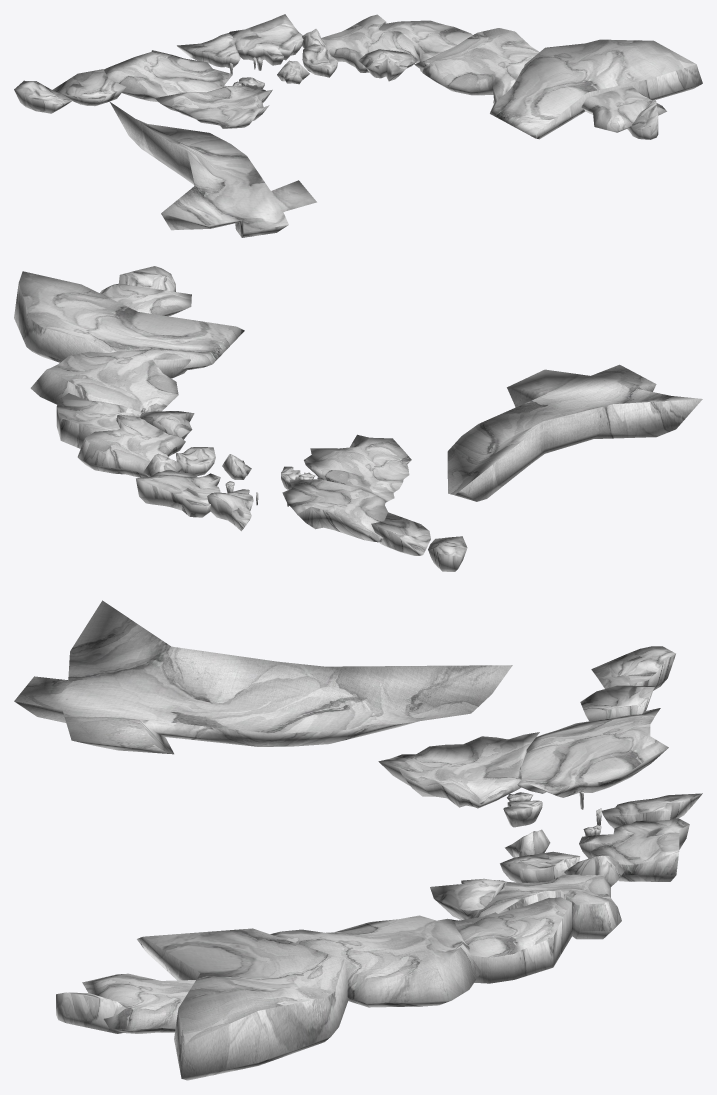
The model's file is PrussiaCove.fbx.
3 views of the same model, one above another, from view 1: azimuth 30°, elevation 25°; view 2: azimuth 150°, elevation 25°; view 3: azimuth 270°, elevation 25° (orthographic). The views are drawn at different scales.
Parts seen in each view (by area): view 1: Rock.020, Rock.019, Rock.017, Rock.005, Rock.004, Rock.014, Rock.013, Rock.021, Rock.016, Rock.006, Rock.008, Rock.007 (+4 smaller); view 2: Rock.019, Rock.020, Rock.017, Rock.005, Rock.004, Rock.014, Rock.013, Rock.016, Rock.021, Rock.006, Rock.008, Rock.007 (+5 smaller); view 3: Rock.019, Rock.020, Rock.017, Rock.005, Rock.004, Rock.016, Rock.014, Rock.013, Rock.021, Rock.007, Rock.008, Rock.022 (+6 smaller).
Part boxes in pixels (<box>): Rock.020: <box>490,39,702,139</box>; Rock.019: <box>109,101,316,237</box>; Rock.017: <box>414,28,539,103</box>; Rock.005: <box>103,50,232,102</box>; Rock.004: <box>155,85,272,128</box>; Rock.014: <box>321,14,419,72</box>; Rock.013: <box>229,14,303,65</box>; Rock.021: <box>581,86,666,132</box>; Rock.016: <box>379,20,472,71</box>; Rock.006: <box>52,69,125,106</box>; Rock.008: <box>177,33,240,68</box>; Rock.007: <box>14,80,72,113</box>; Rock.019: <box>447,364,702,501</box>; Rock.020: <box>14,271,244,369</box>; Rock.017: <box>30,349,190,417</box>; Rock.005: <box>282,477,387,542</box>; Rock.004: <box>304,434,411,502</box>; Rock.014: <box>77,414,185,477</box>; Rock.013: <box>136,470,220,517</box>; Rock.016: <box>56,393,145,448</box>; Rock.021: <box>100,283,191,316</box>; Rock.006: <box>371,512,430,555</box>; Rock.008: <box>207,489,253,531</box>; Rock.007: <box>428,536,467,571</box>; Rock.019: <box>14,600,512,754</box>; Rock.020: <box>137,928,348,1080</box>; Rock.017: <box>270,915,480,1007</box>; Rock.005: <box>517,708,668,797</box>; Rock.004: <box>378,732,539,808</box>; Rock.016: <box>454,897,571,983</box>; Rock.014: <box>465,874,621,939</box>; Rock.013: <box>579,818,689,881</box>; Rock.021: <box>82,973,195,1033</box>; Rock.007: <box>591,646,675,690</box>; Rock.008: <box>601,793,702,828</box>; Rock.022: <box>56,992,126,1033</box>.
Size of the model in its own units: 37540 by 56188 by 3442.
